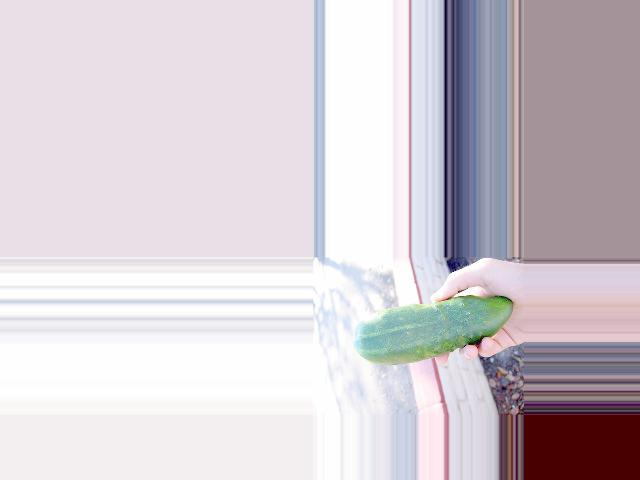cucumber: (353, 296, 512, 366)
